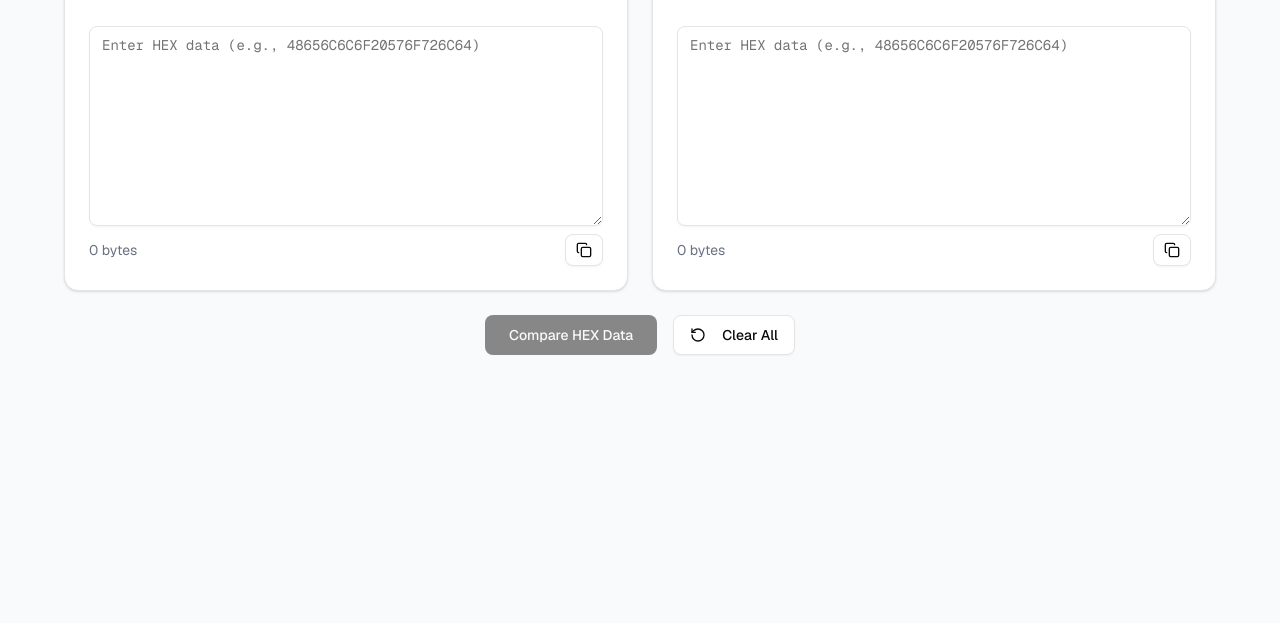
Scenario: HexCompare component › shows comparison result when data differs
Type "AABBCC" into the text box with placeholder "Enter HEX data (e.g., 48656C6C6F20576F726C64)" below "HEX Data Set 1".
click(346, 126); type("AABBCC")  # box [89,26,603,226]
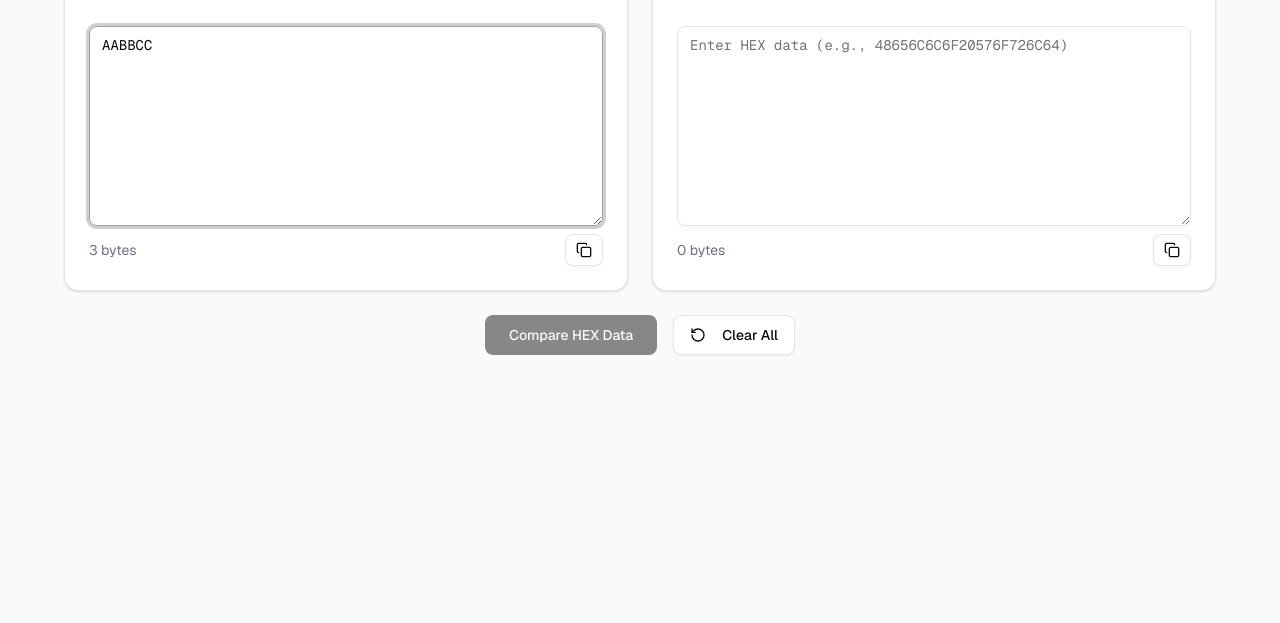
Type "AABBDD" into the text box with placeholder "Enter HEX data (e.g., 48656C6C6F20576F726C64)".
click(934, 126); type("AABBDD")  # box [677,26,1191,226]
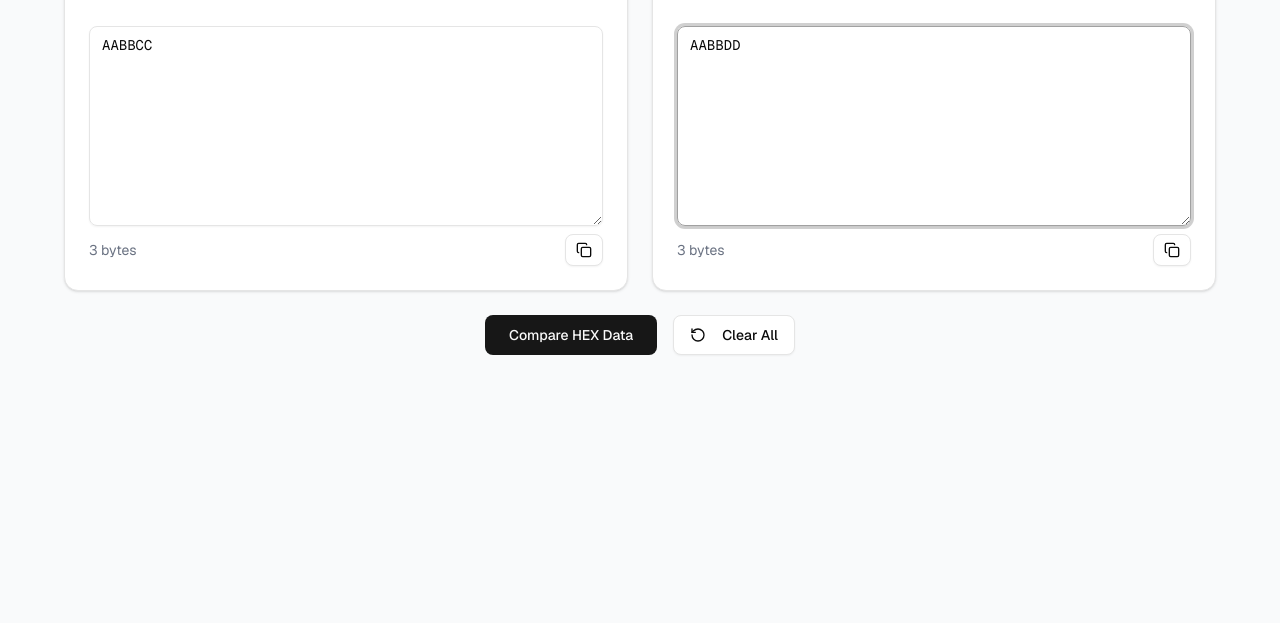
Click the button "Compare HEX Data".
click(571, 335)  # box [485,315,657,355]
(page scrolled)
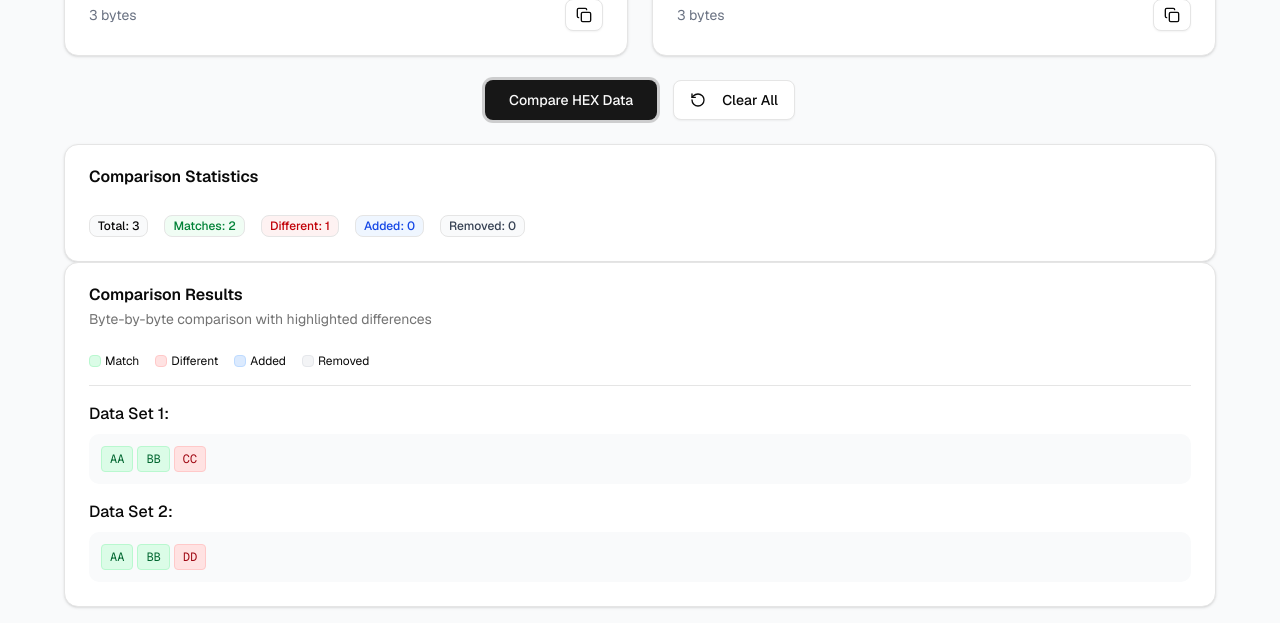
Now the text "Comparison Statistics" is shown, box [89,166,258,187]
Now the text "Different: 1" is shown, box [261,215,339,237]
Now the heading "Data Set 1:" is shown, box [89,403,169,424]
